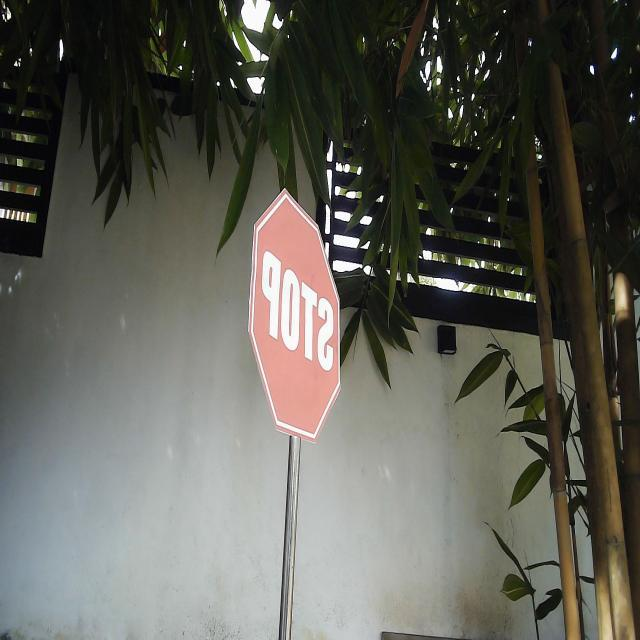stop: (245, 182, 342, 446)
